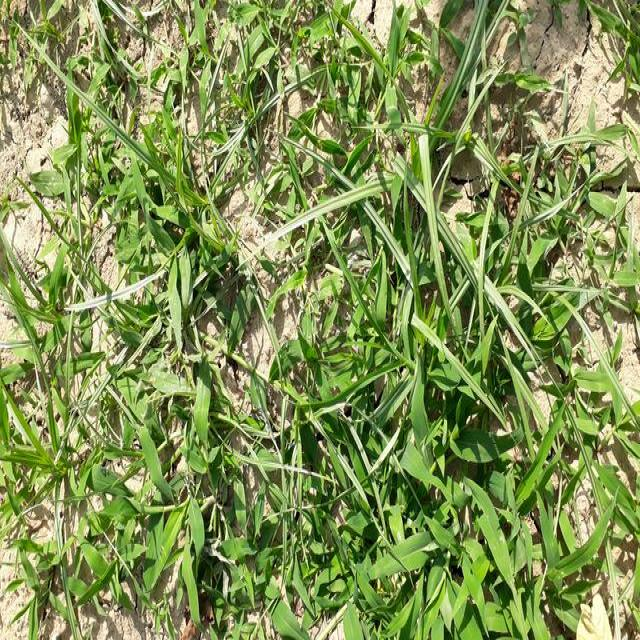weed: (328, 45, 564, 640), (18, 36, 224, 640)
